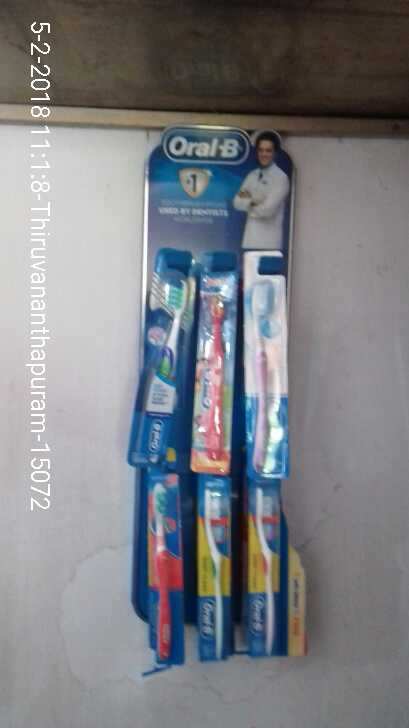oralb: (244, 252, 290, 484), (130, 258, 177, 468), (139, 463, 188, 661), (197, 267, 237, 472), (245, 478, 288, 657), (195, 475, 232, 661)
